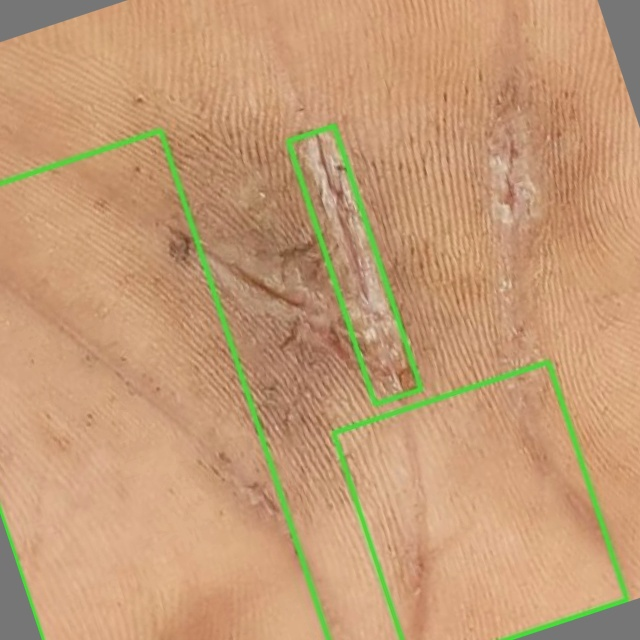Contact Dermatitis: (0, 130, 329, 639), (334, 363, 627, 639), (288, 125, 421, 404)
